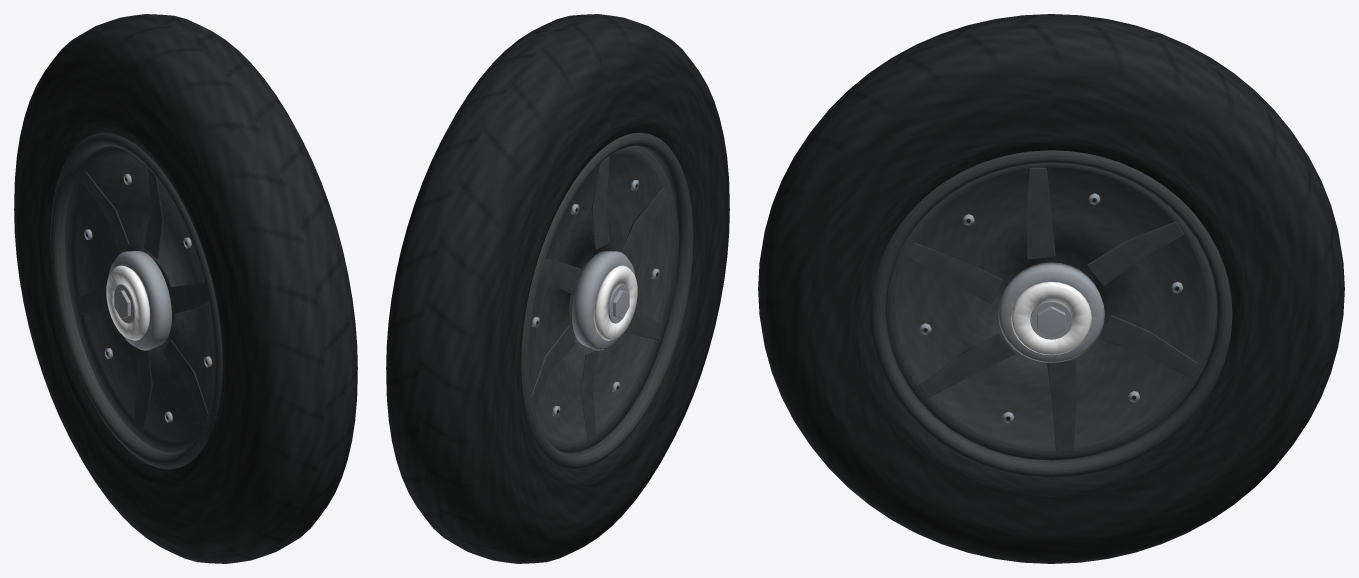
The model's file is scooter.glb.
3 views of the same model, side by side, from view 1: azimuth 30°, elevation 25°; view 2: azimuth 150°, elevation 25°; view 3: azimuth 270°, elevation 25° (orthographic). The views are drawn at different scales.
Visible parts, largest first — view 1: scooter_material_batches; view 2: scooter_material_batches; view 3: scooter_material_batches.
Boxes of the visible parts, x1,y1,x2,y2 form: scooter_material_batches: [14, 14, 357, 563]; scooter_material_batches: [386, 14, 729, 563]; scooter_material_batches: [758, 14, 1344, 563].
Bounding box in the file's own units: 0.27 × 1 × 1.
Materials: 5 (2 with a texture image).
